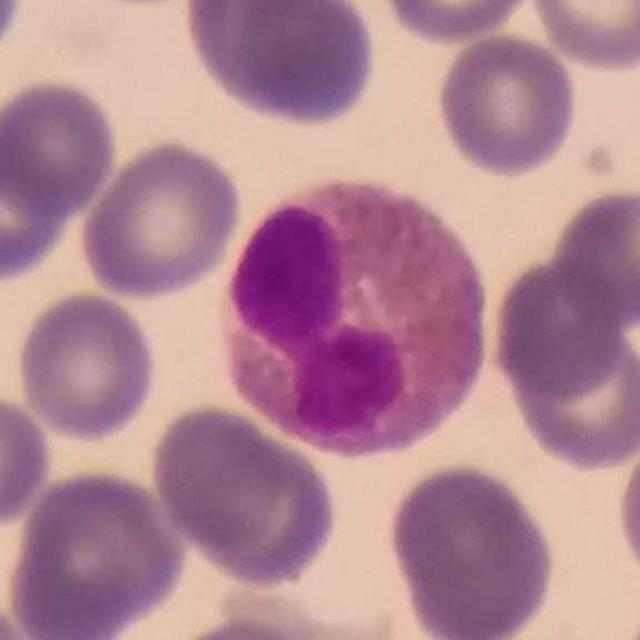Eosinophil: (215, 161, 489, 467)
RBC: (147, 398, 344, 591), (2, 464, 190, 640), (383, 457, 561, 640), (76, 134, 245, 302), (498, 308, 640, 474), (12, 288, 162, 444), (486, 251, 634, 403), (433, 29, 581, 180), (214, 1, 380, 129), (0, 74, 121, 218), (547, 182, 640, 329), (179, 0, 325, 93), (0, 115, 77, 289), (523, 1, 640, 74), (0, 388, 55, 532), (374, 0, 539, 46), (612, 417, 640, 600), (159, 613, 332, 640), (0, 591, 48, 640)
